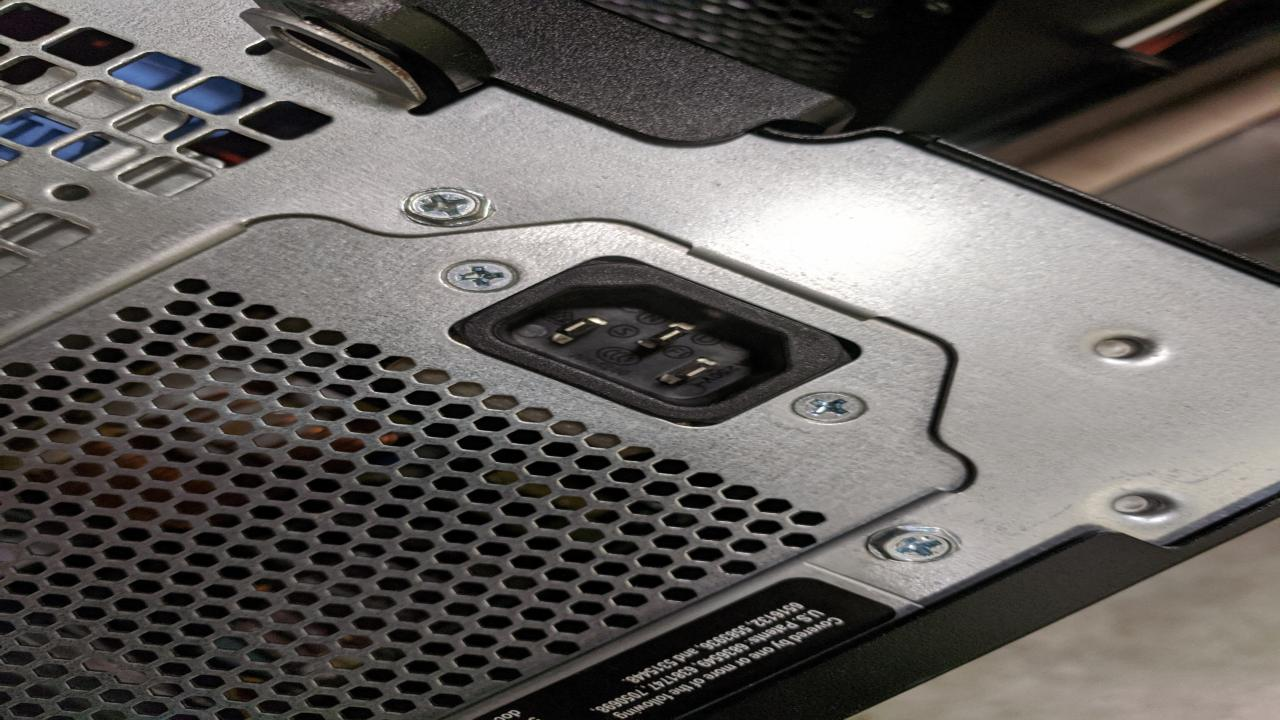CRS: (393, 187, 502, 226), (858, 526, 962, 563), (442, 259, 524, 294), (791, 390, 869, 424)
